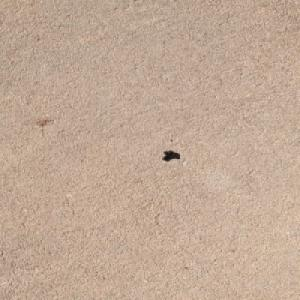BoltWasher: (161, 150, 176, 160)
